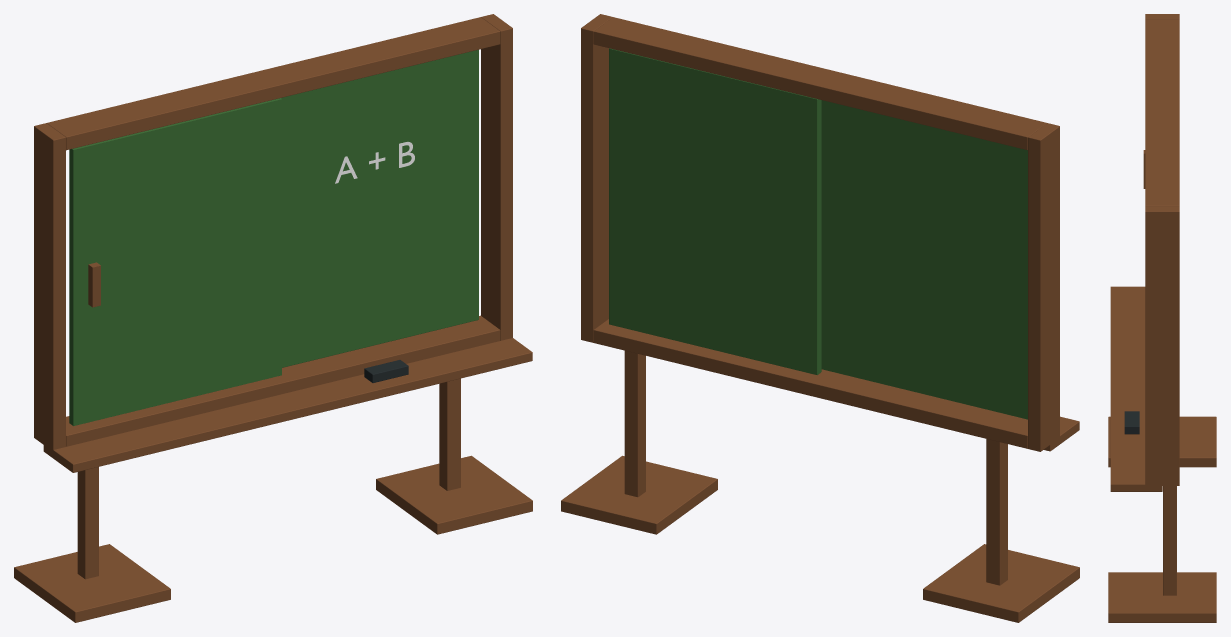
Rendered from blackboard.glb.
3 renders of one model, left to right at view 1: azimuth 30°, elevation 25°; view 2: azimuth 150°, elevation 25°; view 3: azimuth 270°, elevation 25°, orthographic. The views are drawn at different scales.
Visible parts, largest first — view 1: Sliding_Chalk_Panel, Fixed_Chalk_Panel, Wood_Frame.003, Eraser_Shelf, Wood_Frame, Wood_Frame.002, Wood_Frame.001, Foot.001, Foot, Support_Post, Support_Post.001, Eraser; view 2: Fixed_Chalk_Panel, Sliding_Chalk_Panel, Wood_Frame.003, Wood_Frame.002, Wood_Frame, Wood_Frame.001, Foot.001, Foot, Support_Post.001, Support_Post; view 3: Wood_Frame.001, Eraser_Shelf, Wood_Frame.003, Foot.001, Foot, Support_Post.001, Eraser, Wood_Frame.
Boxes of the visible parts, x1,y1,x2,y2 form: Sliding_Chalk_Panel: (69, 98, 281, 425); Fixed_Chalk_Panel: (281, 49, 478, 367); Wood_Frame.003: (47, 17, 500, 150); Eraser_Shelf: (43, 338, 532, 472); Wood_Frame: (34, 123, 65, 449); Wood_Frame.002: (66, 315, 500, 446); Wood_Frame.001: (481, 14, 512, 340); Foot.001: (376, 455, 532, 534); Foot: (14, 544, 170, 622); Support_Post: (77, 467, 98, 579); Support_Post.001: (439, 378, 460, 490); Eraser: (364, 360, 408, 382); Fixed_Chalk_Panel: (609, 48, 821, 374); Sliding_Chalk_Panel: (821, 100, 1027, 419); Wood_Frame.003: (593, 17, 1046, 150); Wood_Frame.002: (593, 319, 1027, 448); Wood_Frame: (1028, 123, 1059, 451); Wood_Frame.001: (581, 14, 612, 342); Foot.001: (561, 455, 717, 534); Foot: (923, 544, 1079, 622); Support_Post.001: (624, 330, 645, 497); Support_Post: (986, 424, 1007, 585); Wood_Frame.001: (1145, 206, 1179, 485); Eraser_Shelf: (1110, 286, 1162, 491); Wood_Frame.003: (1145, 19, 1179, 206); Foot.001: (1108, 572, 1216, 622); Foot: (1108, 416, 1216, 467); Support_Post.001: (1163, 486, 1176, 595); Eraser: (1124, 411, 1139, 434); Wood_Frame: (1145, 14, 1179, 19).
Size of the model in its own units: 2.16 by 2.1 by 0.5.
